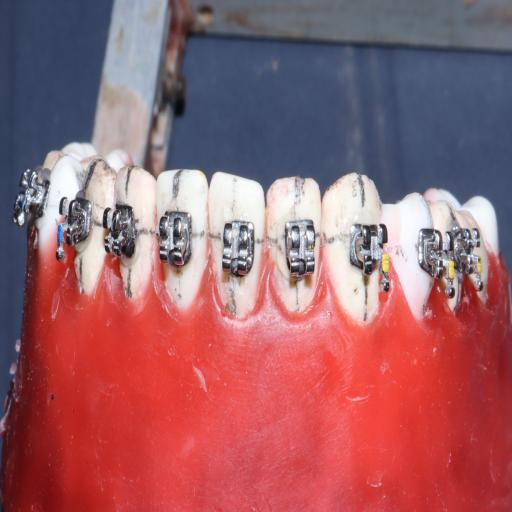incorrect_brace: (219, 210, 256, 284)
